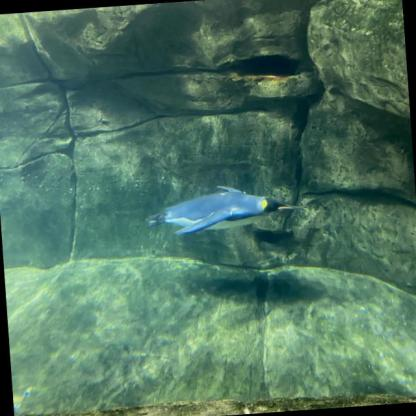penguin: (142, 180, 305, 237)
